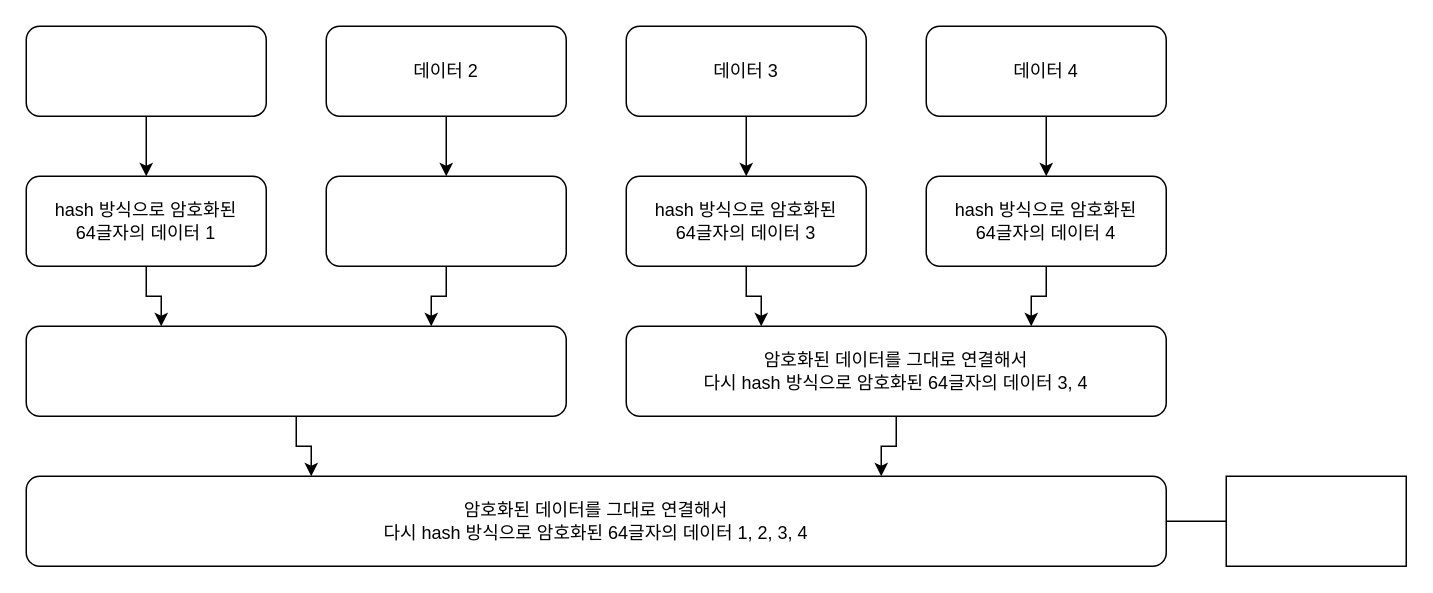
Image size: 1433x593. Some labels were removed from this diagram. The centre of each missing label's shape, as x and y in pixels:
"hash 방식으로 암호화된 64글자의 데이터 2" goes at (445,220).
"merkle Root" goes at (1315,520).
"데이터 1" goes at (145,70).
"암호화된 데이터를 그대로 연결해서 다시 hash 방식으로 암호화된 64글자의 데이터 1,2" goes at (295,370).
